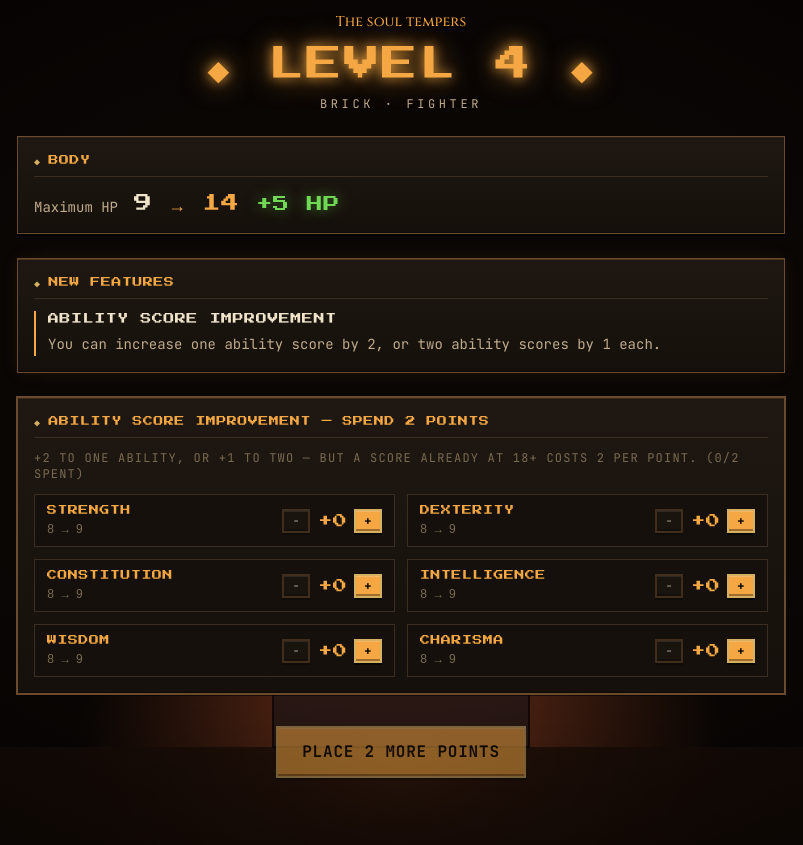
LevelUpScreen — ASI costs 2 points per +1 above 18 › two sub-18 stats can each take +1 to spend the budget
Expected: the button "Place 2 more points" is disabled, [276,726,526,778]
Step 1. Click the button "+" in the row of "Strength" → (368, 521), box [354,509,382,533]
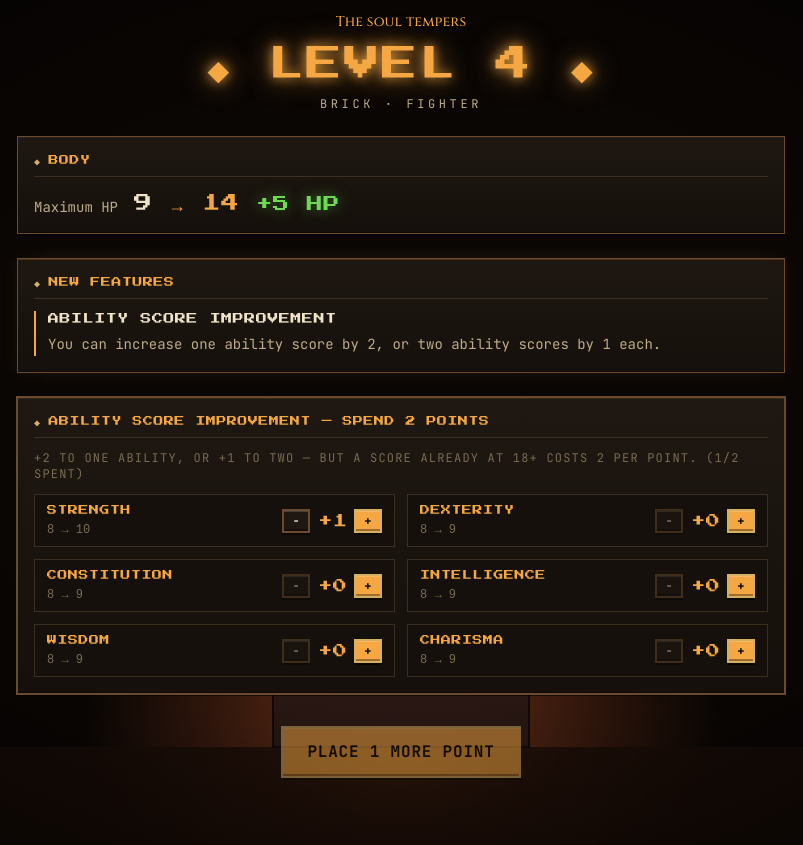
Step 2. Click the button "+" in the row of "Dexterity" → (741, 521), box [727,509,755,533]
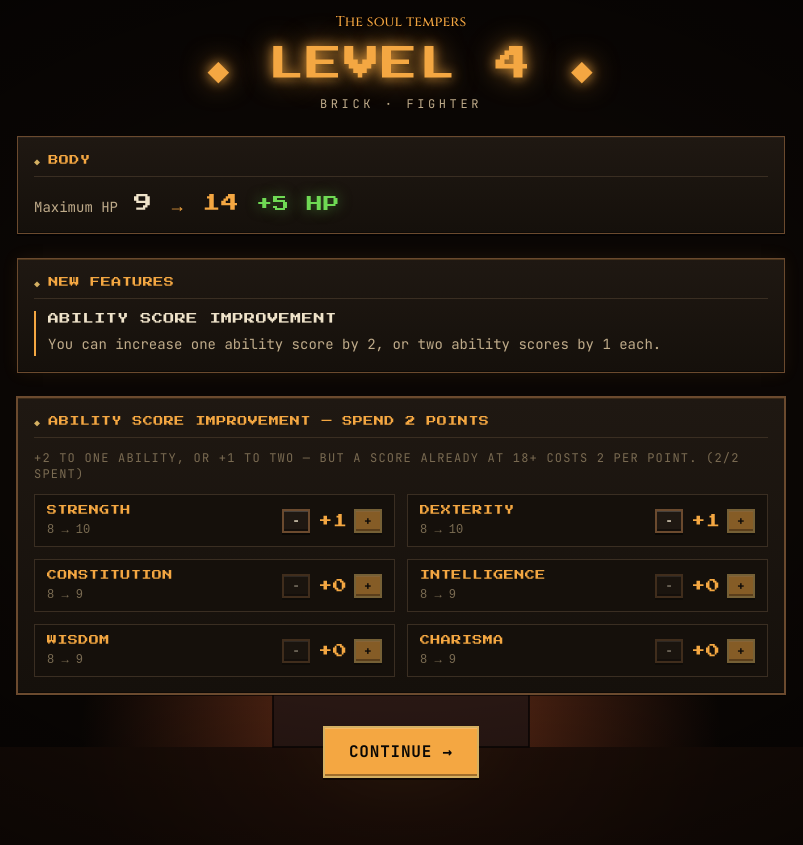
Expected: the button "Continue →" is enabled, [323,726,479,778]
